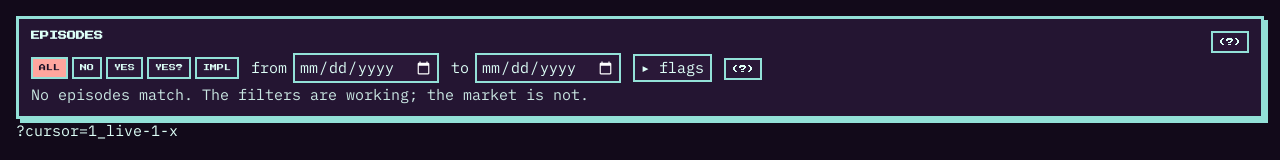
Test: Episodes › changing a filter updates the URL and drops the cursor
Check: the text "No episodes match. The filters are working; the market is not." is shown, box [31,85,589,104]
Step 1. Click the button "YES" → [124, 68], box [106,57,143,79]
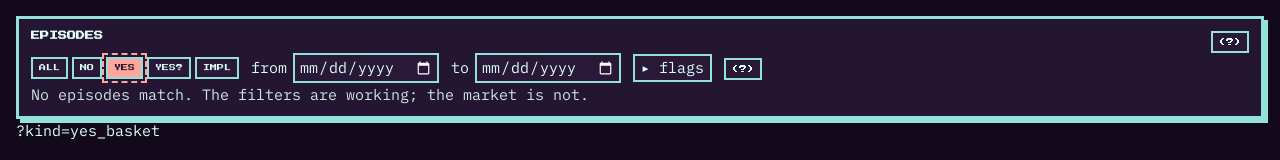
Check: the text with test id "loc" reads "?kind=yes_basket", box [16,121,160,140]
